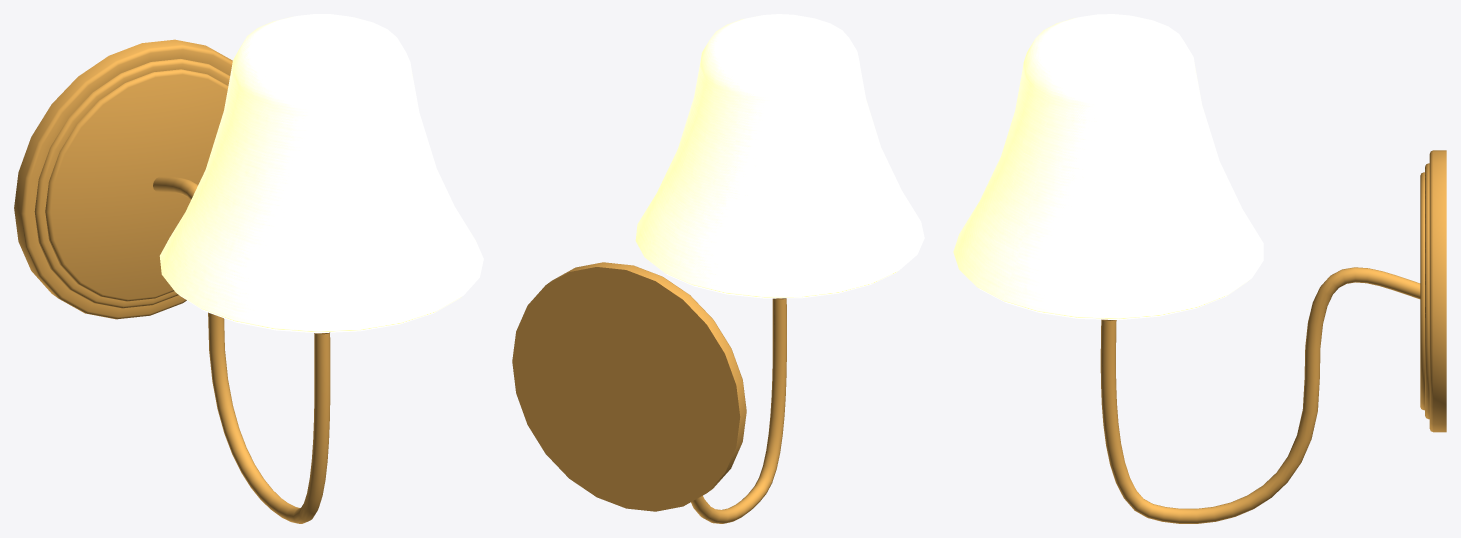
File: Wall_lamp.glb
3 views of the same model, side by side, from view 1: azimuth 30°, elevation 25°; view 2: azimuth 150°, elevation 25°; view 3: azimuth 270°, elevation 25° (orthographic). The views are drawn at different scales.
Parts seen in each view (by area): view 1: Object_22; view 2: Object_22; view 3: Object_22.
Boxes of the visible parts, <box> form: Object_22: <box>14,14,483,523</box>; Object_22: <box>512,14,924,523</box>; Object_22: <box>953,14,1446,523</box>.
Bounding box in the file's own units: 0.3177 × 0.5533 × 0.5041.
1 material, 1 textured.
